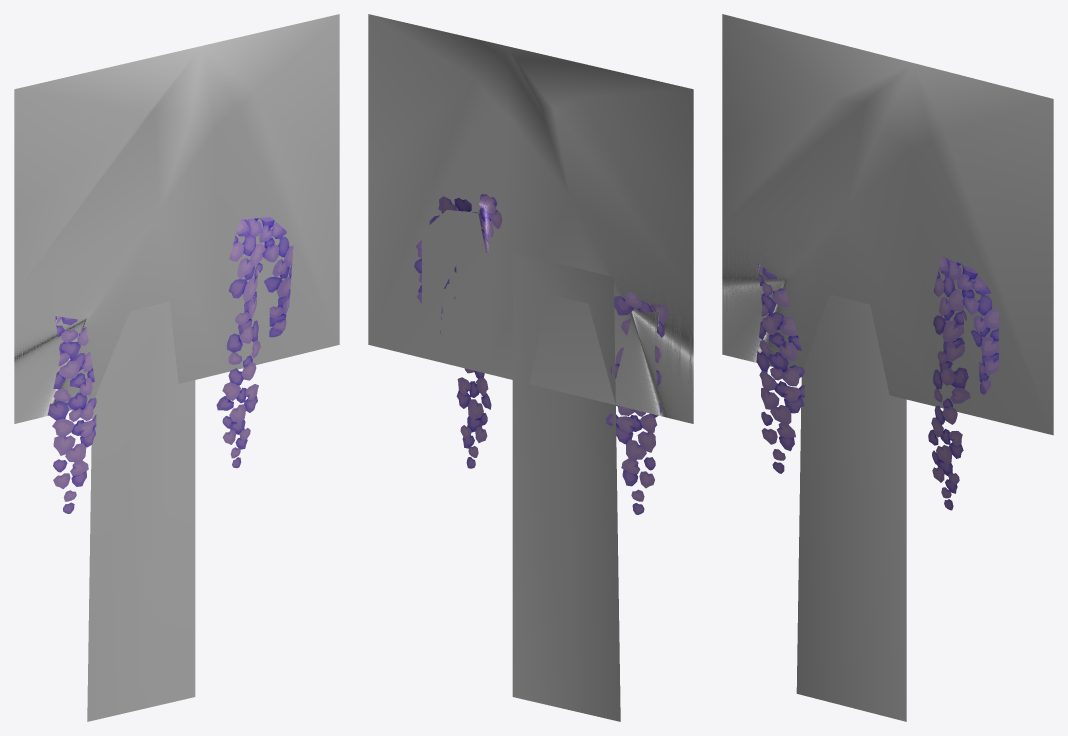
File: SM_Env_Vines_Preset_Wall_02.fbx
The picture shows the model from 3 angles, left to right: view 1: azimuth 30°, elevation 25°; view 2: azimuth 150°, elevation 25°; view 3: azimuth 330°, elevation 25°; orthographic projection.
Parts seen in each view (by area): view 1: SM_Env_Vines_Preset_Wall_02; view 2: SM_Env_Vines_Preset_Wall_02; view 3: SM_Env_Vines_Preset_Wall_02.
Part boxes in pixels (left/top/right/bottom): SM_Env_Vines_Preset_Wall_02: left=14, top=14, right=339, bottom=721; SM_Env_Vines_Preset_Wall_02: left=368, top=14, right=693, bottom=721; SM_Env_Vines_Preset_Wall_02: left=722, top=14, right=1053, bottom=721.
Bounding box in the file's own units: 155 × 296 × 9.43.
